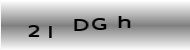2: (27, 24, 41, 38)
D: (73, 18, 89, 33)
G: (91, 17, 106, 30)
h: (116, 15, 132, 29)
l: (47, 25, 53, 39)
